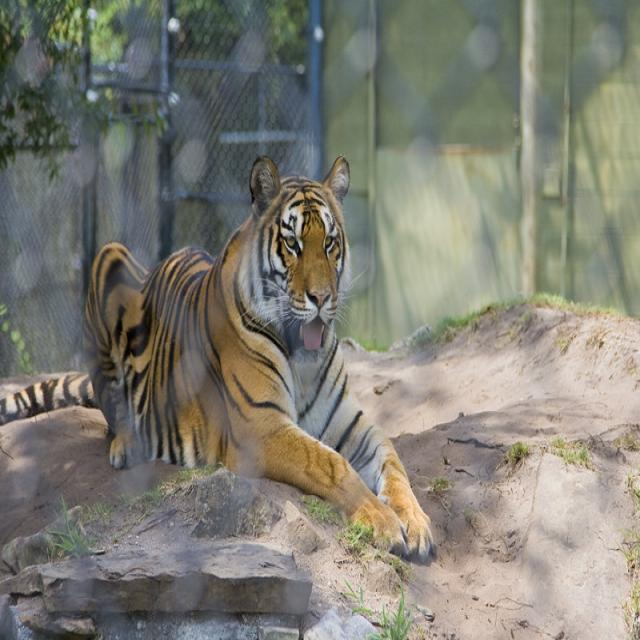Tiger: (74, 157, 431, 559)
